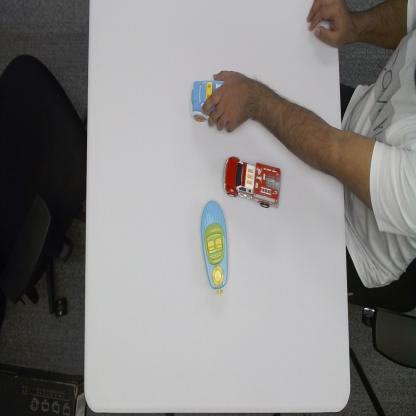Arm: (251, 79, 341, 165)
Boat: (199, 199, 230, 298)
Car: (190, 75, 225, 123)
Firetruck: (222, 154, 283, 210)
Hand: (201, 68, 252, 135), (307, 0, 340, 48)
